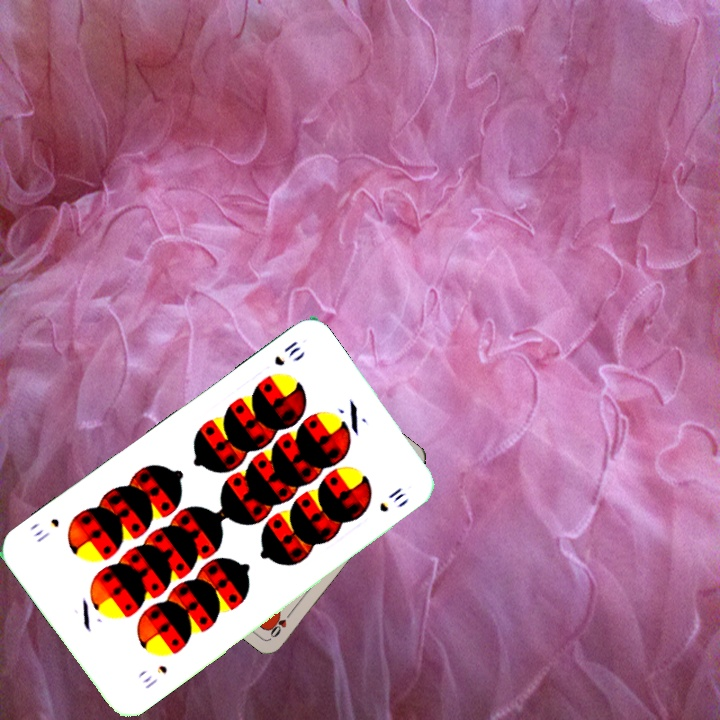HO: (265, 606, 296, 640)
S10: (270, 336, 303, 369), (137, 661, 170, 692)
